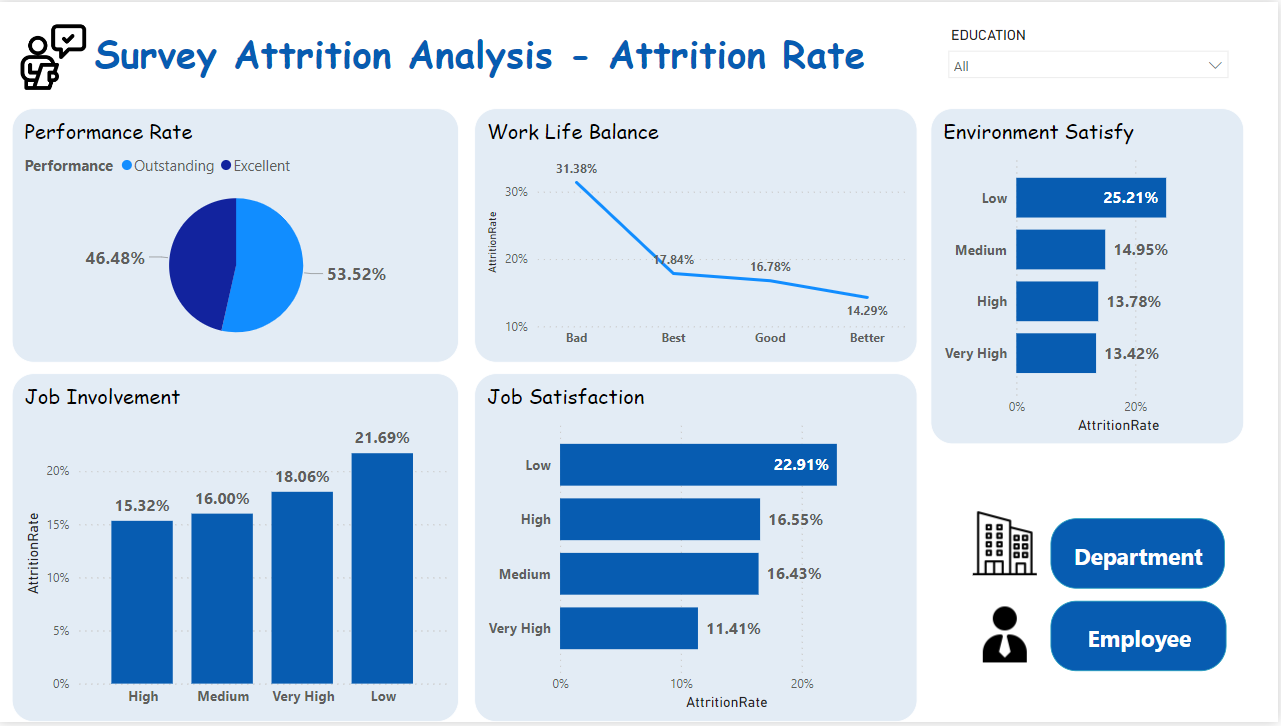

Layout of this report page (visuals, bound fields, positions):
{"tool":"powerbi","page":{"name":"Survey","canvas":[1280,720],"ordinal":3},"visuals":[{"type":"textbox","box":[91.4,20,978.6,72.9],"z":0},{"type":"pieChart","title":"Performance Rate","fields":{"Y":["Measure_table.AttritionRate"],"Category":["Rating_Dim.MANAGER_SURVEY.PERFORMANCERATING"]},"box":[14.3,105.7,447.1,254.3],"z":1000},{"type":"clusteredColumnChart","title":"Job Involvement","fields":{"Category":["Rating_Dim.MANAGER_SURVEY.JOBINVOLVEMENT"],"Y":["Measure_table.AttritionRate"]},"box":[14.3,371.4,447.1,348.6],"z":2000},{"type":"clusteredBarChart","title":"Job Satisfaction","fields":{"Category":["Rating_Dim.JOBSATISFACTION"],"Y":["Measure_table.AttritionRate"]},"box":[475.7,371.4,442.9,348.6],"z":3000},{"type":"lineChart","title":"Work Life Balance","fields":{"Category":["Rating_Dim.WORKLIFEBALANCE"],"Y":["Measure_table.AttritionRate"]},"box":[475.7,105.7,442.9,254.3],"z":4000},{"type":"clusteredBarChart","title":"Environment Satisfy","fields":{"Category":["Rating_Dim.ENVIRONMENTSATISFACTION"],"Y":["Measure_table.AttritionRate"]},"box":[932.5,106.2,313.8,336.2],"z":5000},{"type":"image","box":[14.3,17.1,82.9,75.7],"z":6000},{"type":"image","box":[970.4,501.8,74,80],"z":7000},{"type":"actionButton","box":[1052.4,515.8,174,70],"z":8000},{"type":"image","box":[969.6,581,74,102],"z":9000},{"type":"actionButton","box":[1052,598.6,176,70],"z":10000},{"type":"slicer","fields":{"Values":["Employee_Dim.EDUCATION"]},"box":[940,20,300,78.6],"z":11000}]}

Visuals, with their boxes in screenshot pixels (x1, y1, x2, y2), scaled from the page's 1280x720 canvas onto the 1281x726 screenshot:
textbox: <region>91, 20, 1071, 94</region>
"Performance Rate" pieChart: <region>14, 107, 462, 363</region>
"Job Involvement" clusteredColumnChart: <region>14, 374, 462, 725</region>
"Job Satisfaction" clusteredBarChart: <region>476, 374, 919, 725</region>
"Work Life Balance" lineChart: <region>476, 107, 919, 363</region>
"Environment Satisfy" clusteredBarChart: <region>933, 107, 1247, 446</region>
image: <region>14, 17, 97, 94</region>
image: <region>971, 506, 1045, 587</region>
actionButton: <region>1053, 520, 1227, 591</region>
image: <region>970, 586, 1044, 689</region>
actionButton: <region>1053, 604, 1229, 674</region>
slicer - Employee_Dim.EDUCATION: <region>941, 20, 1241, 99</region>
